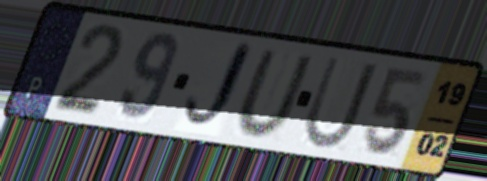2: (51, 21, 127, 120)
5: (361, 62, 431, 159)
9: (115, 30, 180, 127)
J: (177, 37, 259, 136)
U: (299, 53, 382, 152), (235, 48, 317, 142)
